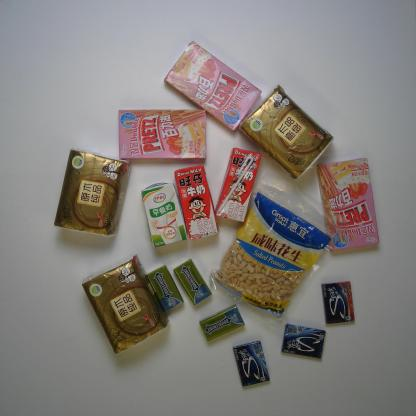Dessert: (163, 40, 262, 133), (317, 156, 379, 251), (118, 109, 206, 160)
Dried Fruit: (208, 173, 349, 330)
Gum: (173, 258, 212, 306), (232, 340, 270, 388), (147, 264, 184, 312), (199, 304, 245, 342), (320, 281, 356, 324), (281, 324, 325, 358)
Milk: (214, 147, 262, 222), (174, 164, 219, 240), (141, 182, 188, 247)
Tissue: (238, 83, 335, 181), (80, 253, 170, 355), (53, 146, 131, 238)
